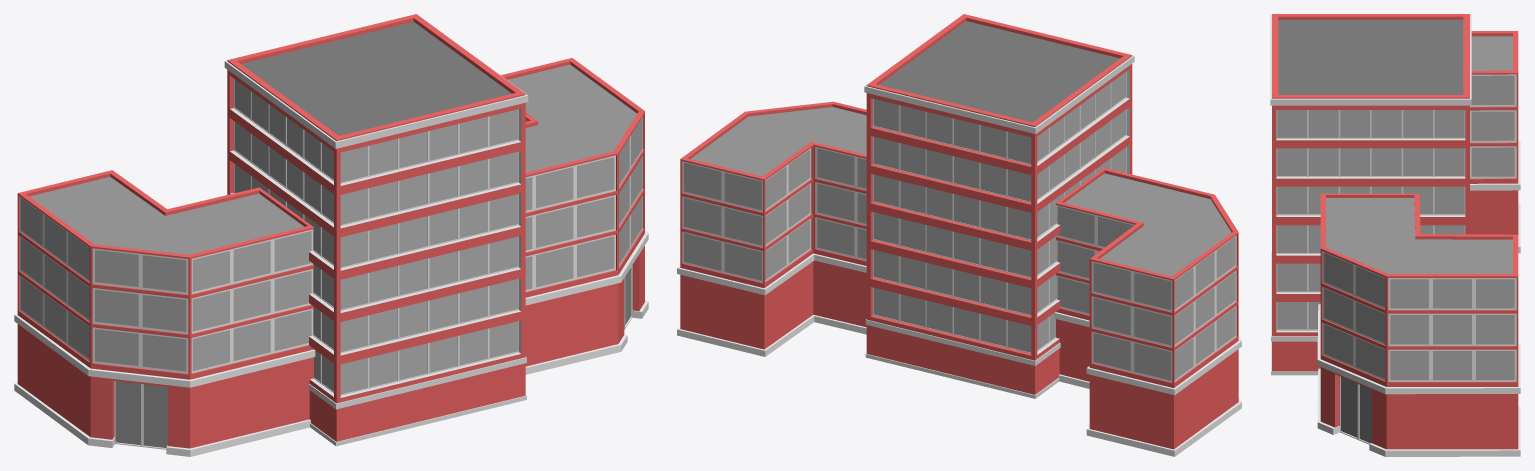
File: SM_House_15_02.FBX
The picture shows the model from 3 angles, left to right: view 1: azimuth 30°, elevation 25°; view 2: azimuth 150°, elevation 25°; view 3: azimuth 270°, elevation 25°; orthographic projection. The views are drawn at different scales.
Parts seen in each view (by area): view 1: SM_House_15_02; view 2: SM_House_15_02; view 3: SM_House_15_02.
Part boxes in pixels (left/top/right/bottom): SM_House_15_02: left=14, top=14, right=648, bottom=456; SM_House_15_02: left=677, top=14, right=1241, bottom=456; SM_House_15_02: left=1270, top=14, right=1520, bottom=456.
Size of the model in its own units: 17.78 by 9.28 by 7.6.
Materials: 2 (2 with a texture image).
